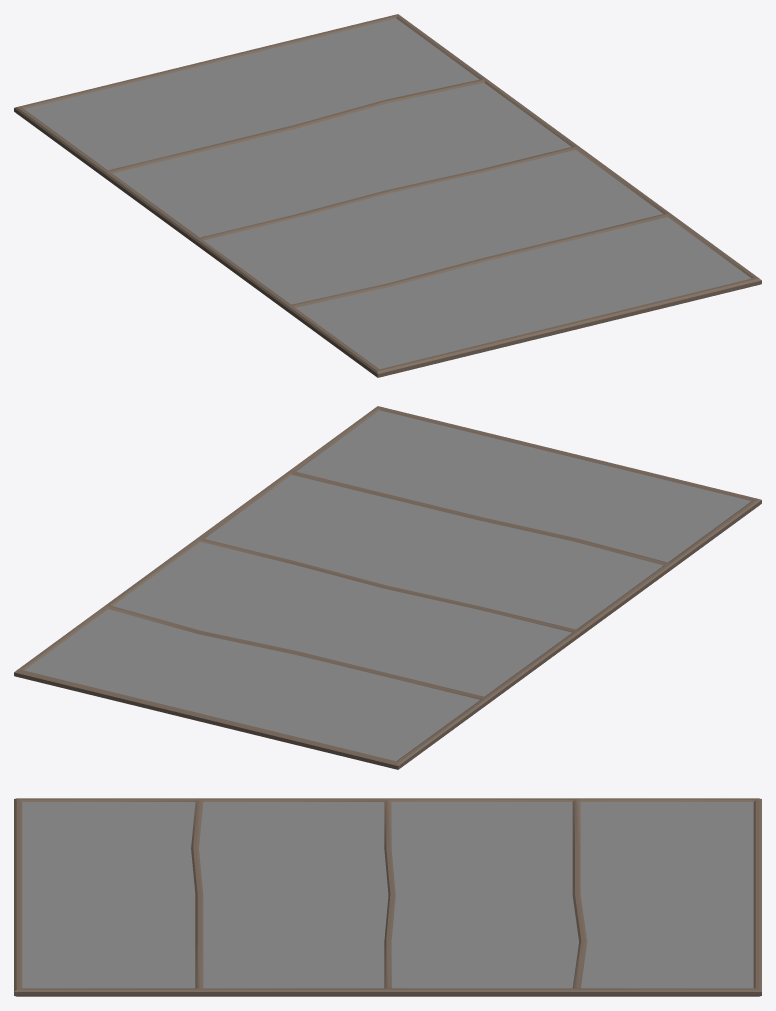
File: Inv.fbx
3 renders of one model, top to bottom at view 1: azimuth 30°, elevation 25°; view 2: azimuth 150°, elevation 25°; view 3: azimuth 270°, elevation 25°, orthographic. The views are drawn at different scales.
Parts seen in each view (by area): view 1: Cube; view 2: Cube; view 3: Cube.
Part boxes in pixels (x1,y1,x2,y2): Cube: (14,14,761,377); Cube: (14,406,761,769); Cube: (14,798,761,996).
Size of the model in its own units: 1229 by 20.53 by 2014.
